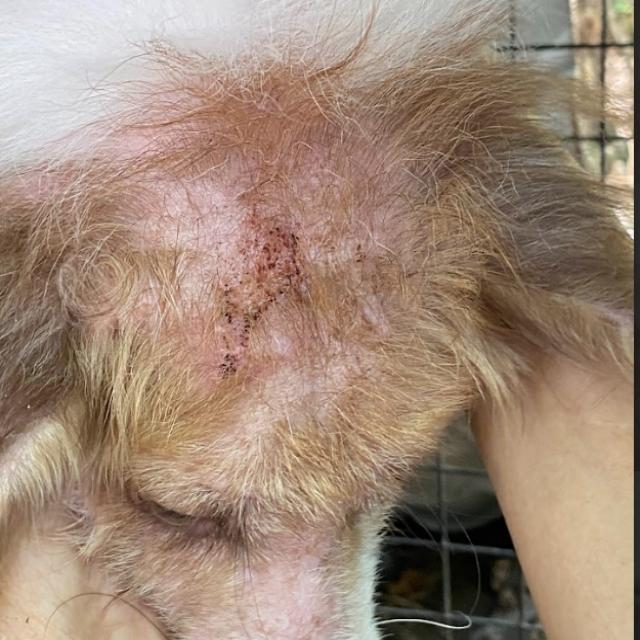demodicosis: (108, 166, 430, 396)
